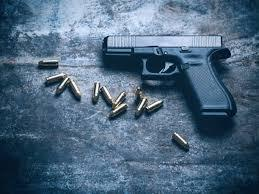gun: (82, 15, 253, 128)
